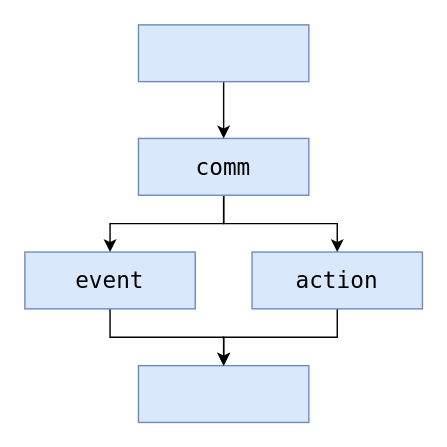
Image size: 447x447. Some labels were removed from this diagram. Each missing label, with the centre of its shape:
main: the point at 223,52
utils: the point at 223,393
